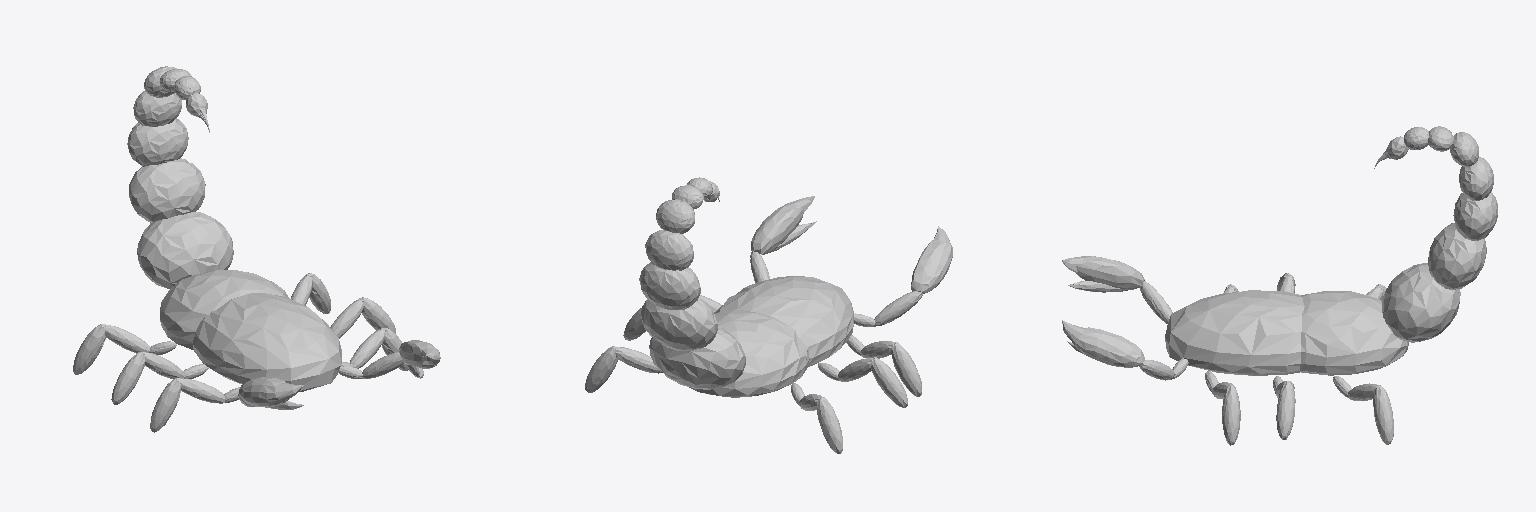
Rendered from scorpion_000038.obj.
The picture shows the model from 3 angles: view 1: azimuth 30°, elevation 25°; view 2: azimuth 150°, elevation 25°; view 3: azimuth 270°, elevation 25°; orthographic projection.
Parts seen in each view (by area): view 1: Sphere.010_Sphere.012, Sphere.002_Sphere.004, Sphere.011_Sphere.013, Sphere.003_Sphere.005, Sphere.030_Sphere.000, Sphere.004_Sphere.006, Sphere.012_Sphere.020, Sphere.014_Sphere.023, Sphere.013_Sphere.017, Sphere.000_Sphere.019, Sphere.005_Sphere.007, Sphere.016_Sphere.022 (+3 smaller); view 2: Sphere.010_Sphere.012, Sphere.011_Sphere.013, Sphere.002_Sphere.004, Sphere.030_Sphere.000, Sphere.003_Sphere.005, Sphere.004_Sphere.006, Sphere.014_Sphere.023, Sphere.005_Sphere.007, Sphere.012_Sphere.020, Sphere.028_Sphere.046, Sphere.006_Sphere.008, Sphere.018_Sphere.025 (+3 smaller); view 3: Sphere.010_Sphere.012, Sphere.011_Sphere.013, Sphere.002_Sphere.004, Sphere.030_Sphere.000, Sphere.003_Sphere.005, Sphere.004_Sphere.006, Sphere.005_Sphere.007, Sphere.028_Sphere.046, Sphere.012_Sphere.020, Sphere.014_Sphere.023, Sphere.000_Sphere.019, Sphere.006_Sphere.008 (+1 smaller).
Part boxes in pixels (left/top/right/bottom): Sphere.010_Sphere.012: left=193, top=293, right=341, bottom=391; Sphere.002_Sphere.004: left=137, top=212, right=233, bottom=288; Sphere.011_Sphere.013: left=160, top=270, right=288, bottom=349; Sphere.003_Sphere.005: left=129, top=158, right=205, bottom=222; Sphere.030_Sphere.000: left=239, top=340, right=440, bottom=407; Sphere.004_Sphere.006: left=127, top=118, right=188, bottom=166; Sphere.012_Sphere.020: left=111, top=297, right=395, bottom=404; Sphere.014_Sphere.023: left=73, top=273, right=330, bottom=374; Sphere.013_Sphere.017: left=179, top=328, right=384, bottom=403; Sphere.000_Sphere.019: left=150, top=327, right=408, bottom=432; Sphere.005_Sphere.007: left=133, top=91, right=181, bottom=126; Sphere.016_Sphere.022: left=143, top=298, right=363, bottom=378; Sphere.010_Sphere.012: left=714, top=276, right=853, bottom=366; Sphere.011_Sphere.013: left=689, top=309, right=809, bottom=397; Sphere.002_Sphere.004: left=649, top=326, right=745, bottom=389; Sphere.030_Sphere.000: left=751, top=196, right=952, bottom=293; Sphere.003_Sphere.005: left=641, top=298, right=717, bottom=350; Sphere.004_Sphere.006: left=639, top=262, right=700, bottom=309; Sphere.014_Sphere.023: left=585, top=346, right=842, bottom=453; Sphere.005_Sphere.007: left=645, top=230, right=693, bottom=270; Sphere.012_Sphere.020: left=623, top=308, right=907, bottom=407; Sphere.028_Sphere.046: left=750, top=251, right=922, bottom=325; Sphere.006_Sphere.008: left=656, top=199, right=694, bottom=233; Sphere.018_Sphere.025: left=614, top=347, right=821, bottom=410; Sphere.010_Sphere.012: left=1165, top=290, right=1304, bottom=375; Sphere.011_Sphere.013: left=1300, top=291, right=1408, bottom=375; Sphere.002_Sphere.004: left=1382, top=263, right=1460, bottom=342; Sphere.030_Sphere.000: left=1062, top=256, right=1144, bottom=367; Sphere.003_Sphere.005: left=1428, top=223, right=1486, bottom=289; Sphere.004_Sphere.006: left=1453, top=191, right=1497, bottom=240; Sphere.005_Sphere.007: left=1459, top=157, right=1493, bottom=200; Sphere.028_Sphere.046: left=1139, top=281, right=1175, bottom=380; Sphere.012_Sphere.020: left=1276, top=273, right=1295, bottom=439; Sphere.014_Sphere.023: left=1373, top=284, right=1393, bottom=444; Sphere.000_Sphere.019: left=1222, top=284, right=1240, bottom=445; Sphere.006_Sphere.008: left=1450, top=132, right=1478, bottom=166.
Size of the model in its own units: 0.9615 by 0.8292 by 1.28.